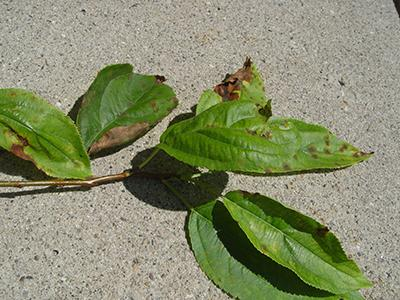Apple Scab Leaf: (160, 103, 379, 194), (219, 181, 374, 298), (81, 59, 176, 172), (1, 85, 91, 201)
